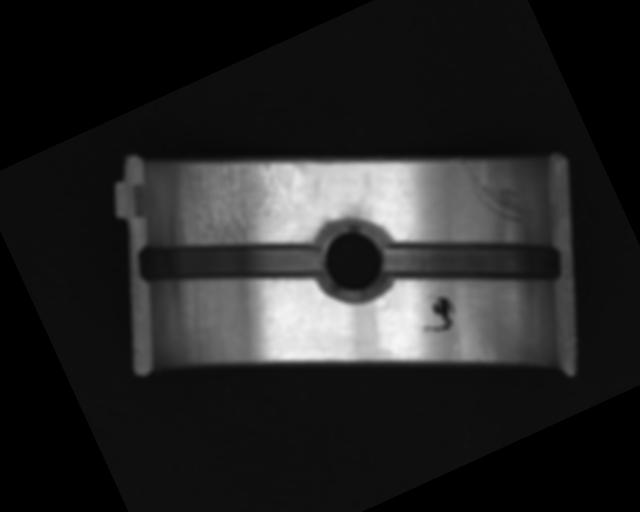blot: (412, 291, 462, 341)
gap: (125, 181, 327, 342), (375, 182, 571, 344)
hole: (304, 211, 404, 312)
nick: (459, 141, 537, 240)
scratch: (172, 120, 319, 255)
